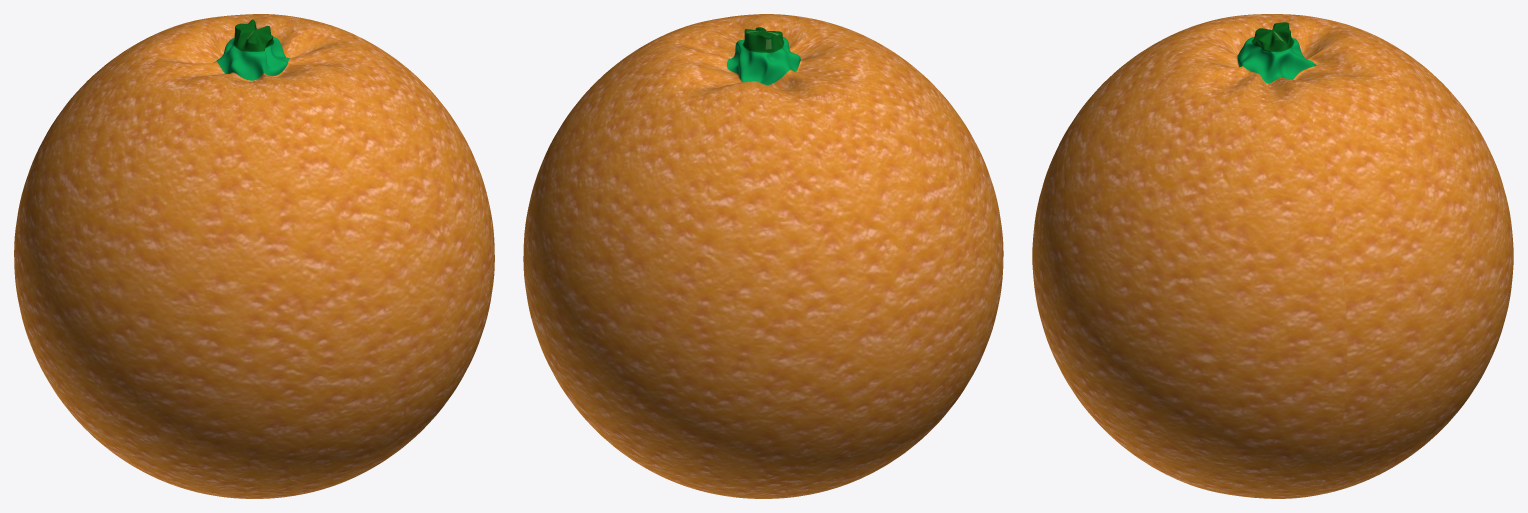
Rendered from Orange2.fbx.
3 renders of one model, left to right at view 1: azimuth 30°, elevation 25°; view 2: azimuth 150°, elevation 25°; view 3: azimuth 270°, elevation 25°, orthographic.
Visible parts, largest first — view 1: Orange2; view 2: Orange2; view 3: Orange2.
Part boxes in pixels (x1,y1,x2,y2): Orange2: (14, 14, 494, 498); Orange2: (523, 14, 1003, 498); Orange2: (1032, 14, 1513, 498).
Size of the model in its own units: 1.23 by 1.23 by 1.23.
4 materials, 3 textured.
